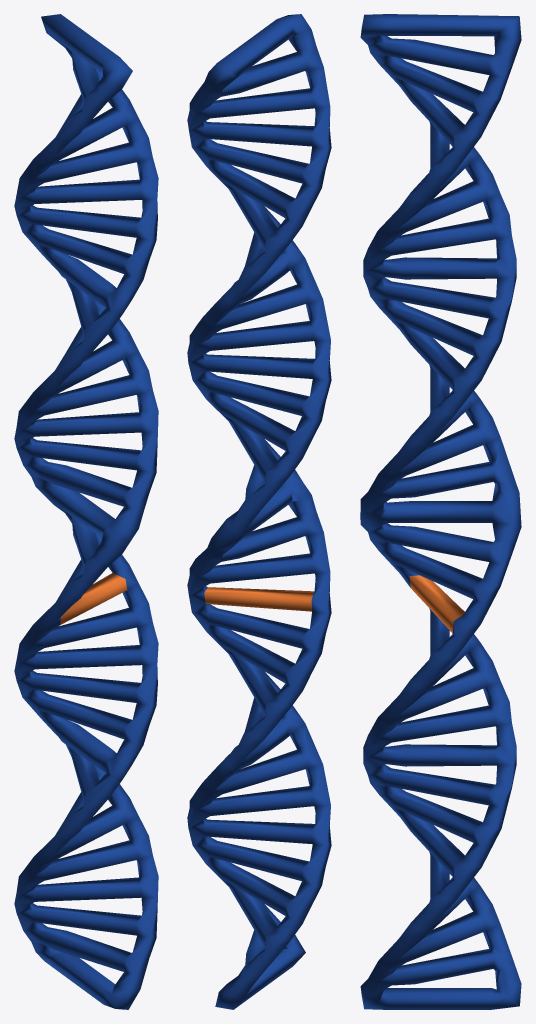
Rendered from DNA.fbx.
3 renders of one model, left to right at view 1: azimuth 30°, elevation 25°; view 2: azimuth 150°, elevation 25°; view 3: azimuth 270°, elevation 25°, orthographic. The views are drawn at different scales.
Visible parts, largest first — view 1: DNA; view 2: DNA; view 3: DNA.
Part boxes in pixels (x1,y1,x2,y2): DNA: (14, 14, 158, 1009); DNA: (187, 14, 331, 1009); DNA: (360, 14, 521, 1009).
Size of the model in its own units: 283 by 2030 by 300.
